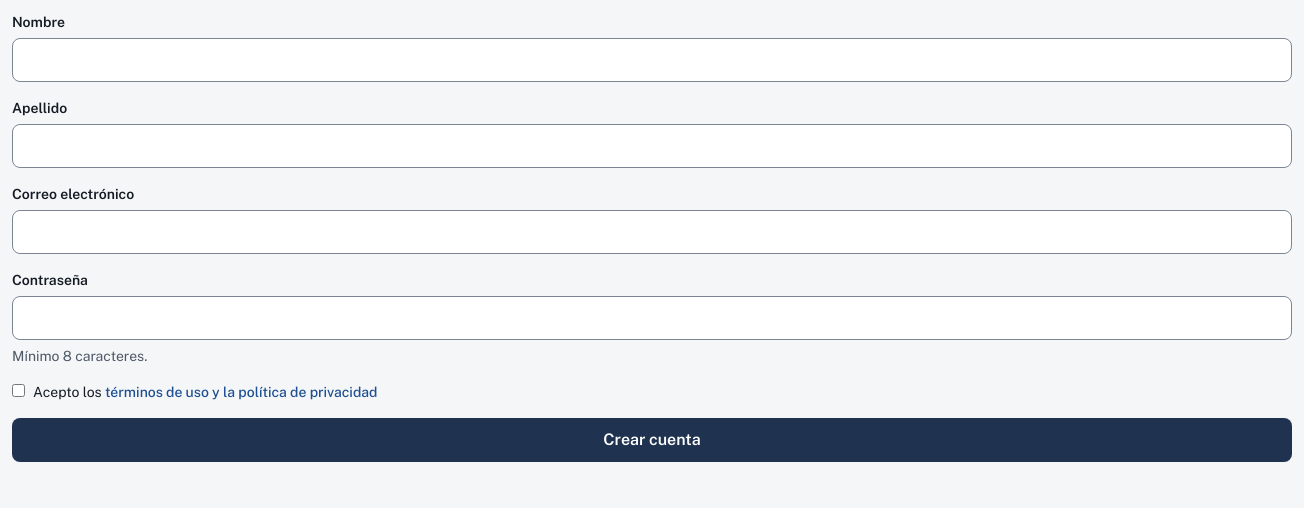
Test: FormularioRegistro (NC-07b) › sin marcar la casilla no envía y explica por qué
Type "Ana" into the field labelled "Nombre". click: (652, 60)
box: [12,38,1292,82]
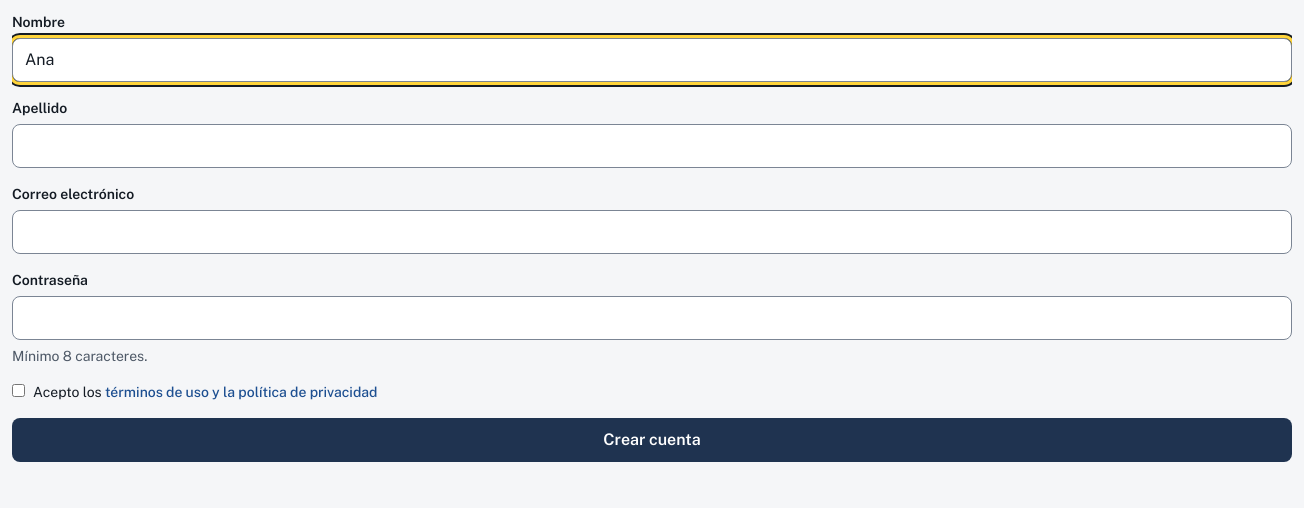
Type "Ruiz" into the field labelled "Apellido". click: (652, 146)
box: [12,124,1292,168]
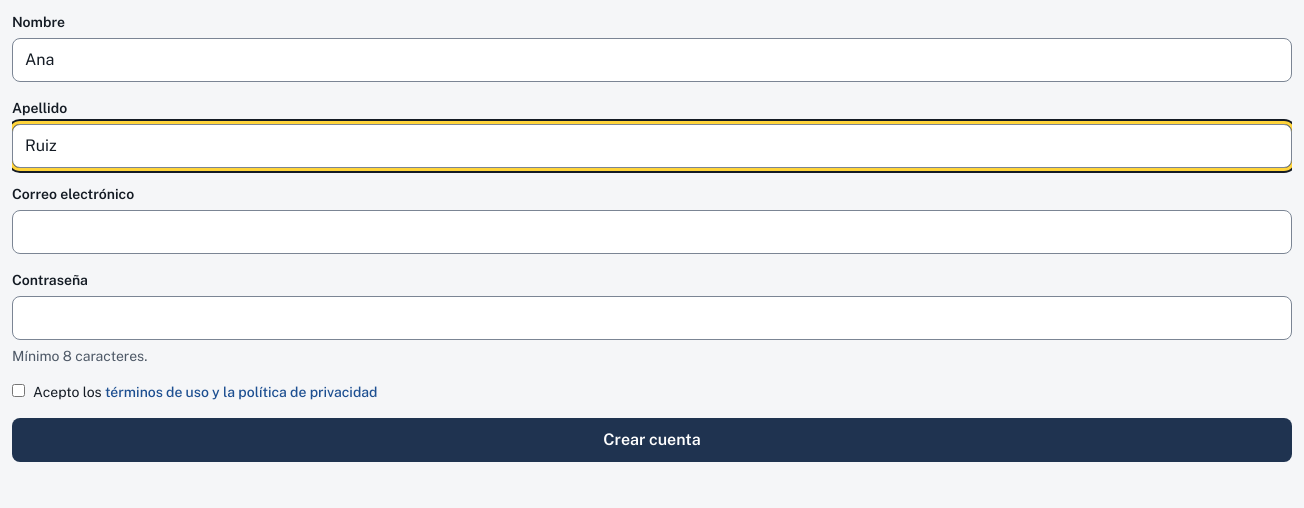
Type "ana@lima.pe" into the field labelled "Correo electrónico". click: (652, 232)
box: [12,210,1292,254]
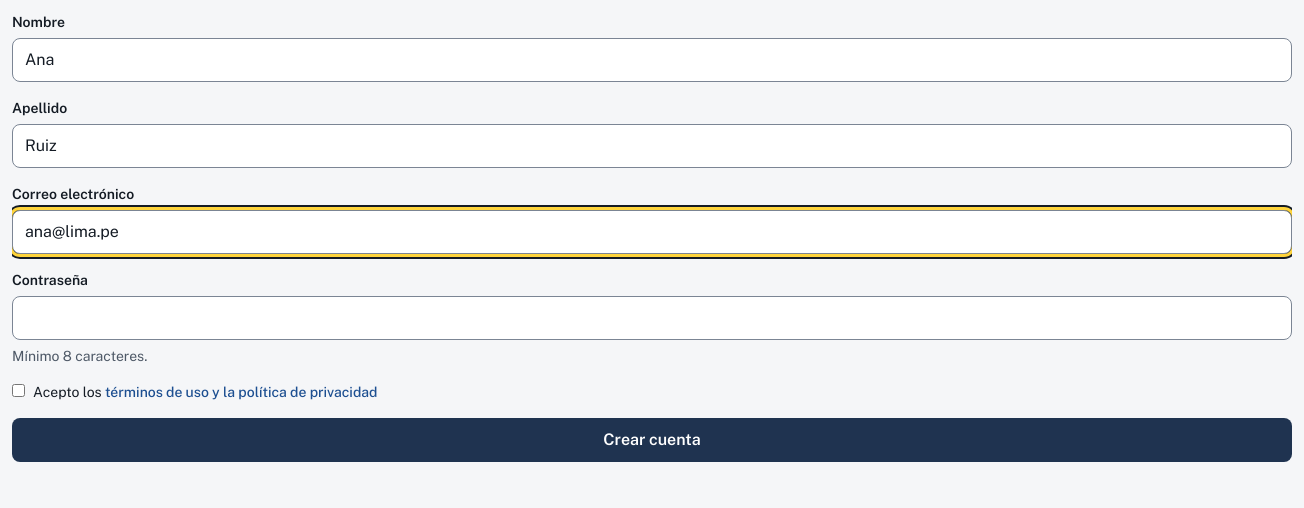
Type "secreta123" into the password field labelled "Contraseña". click: (652, 318)
box: [12,296,1292,340]
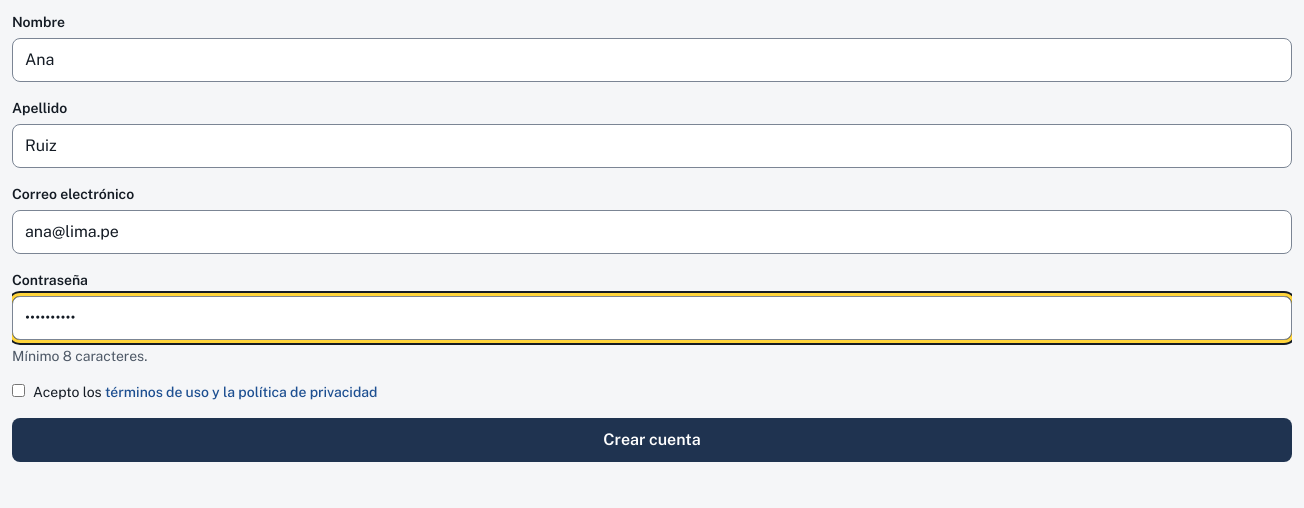
Click the button "Crear cuenta". click: (652, 440)
box: [12,418,1292,462]
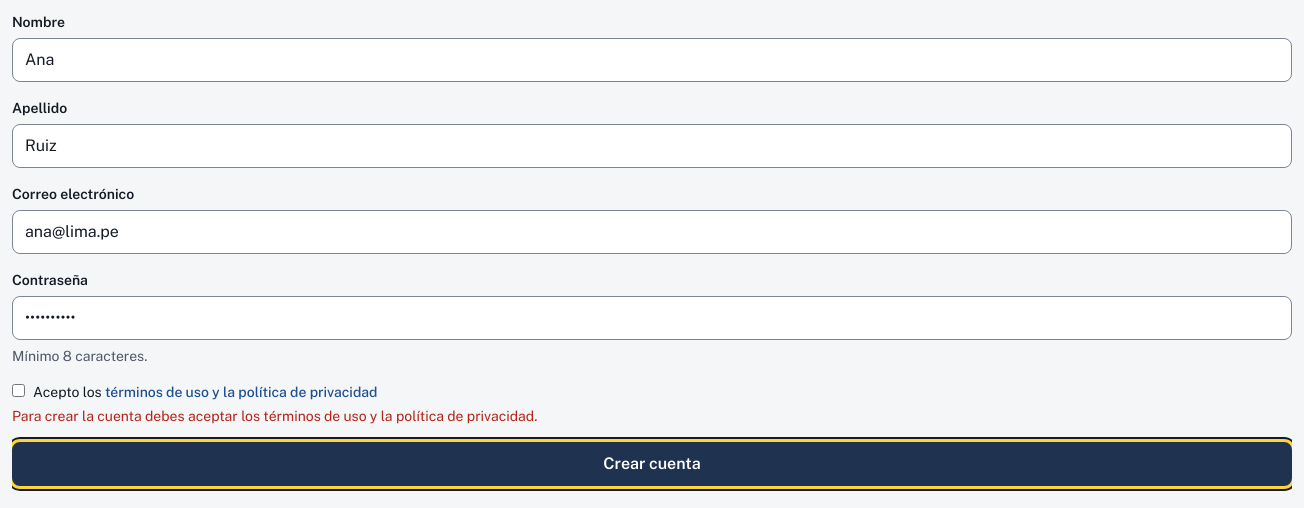
Result: the message shows "debes aceptar los términos" at [12,408,537,424]
